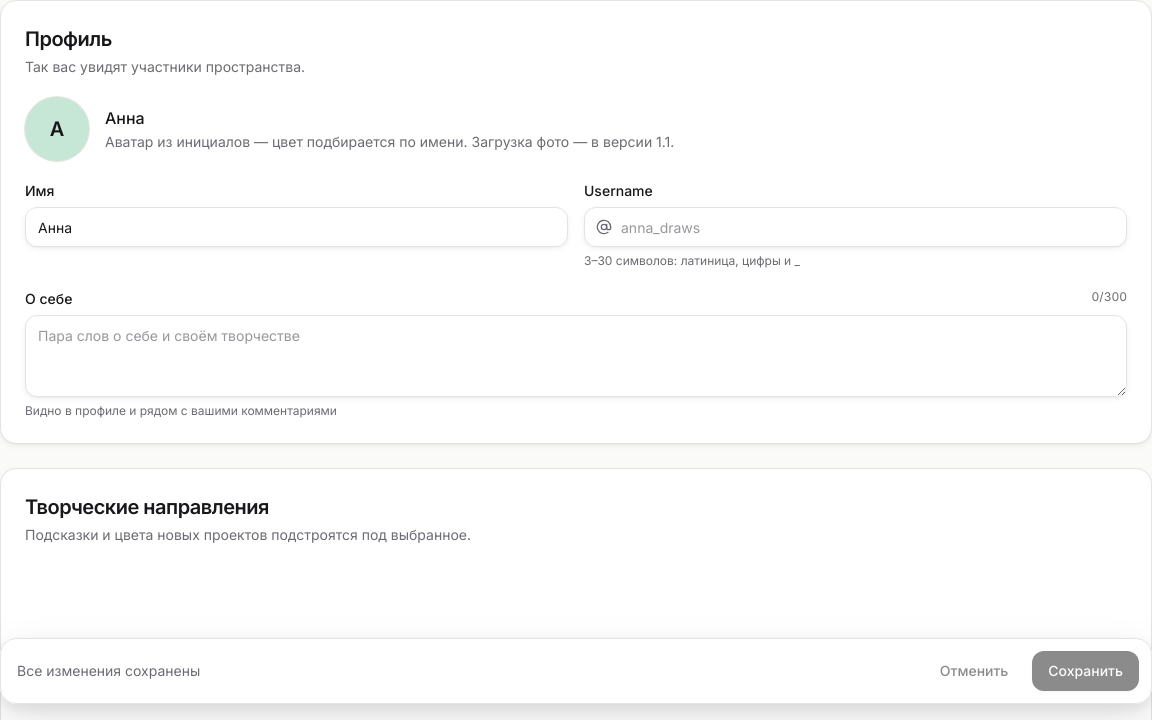
Test: Настройки → Профиль › занятый username — ошибка под полем
Type "taken_name" into the field labelled "Username" at (856, 227), box [584, 207, 1127, 247]
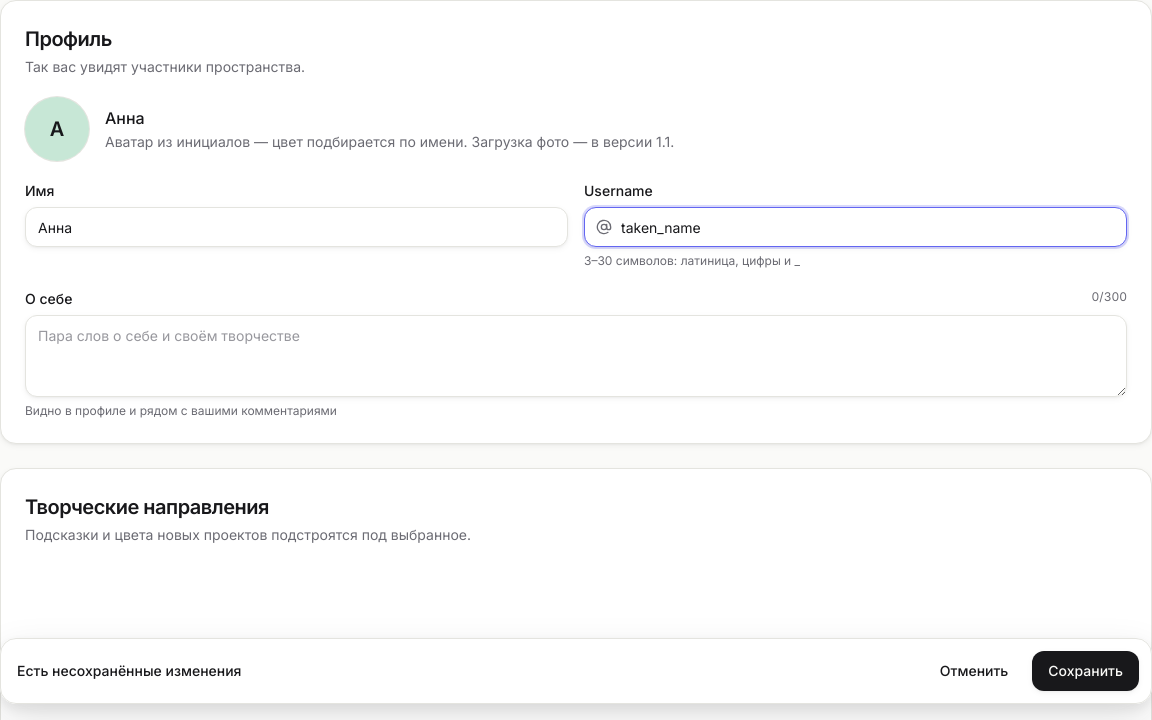
Click the button "Сохранить" at (1086, 671), box [1032, 651, 1139, 691]
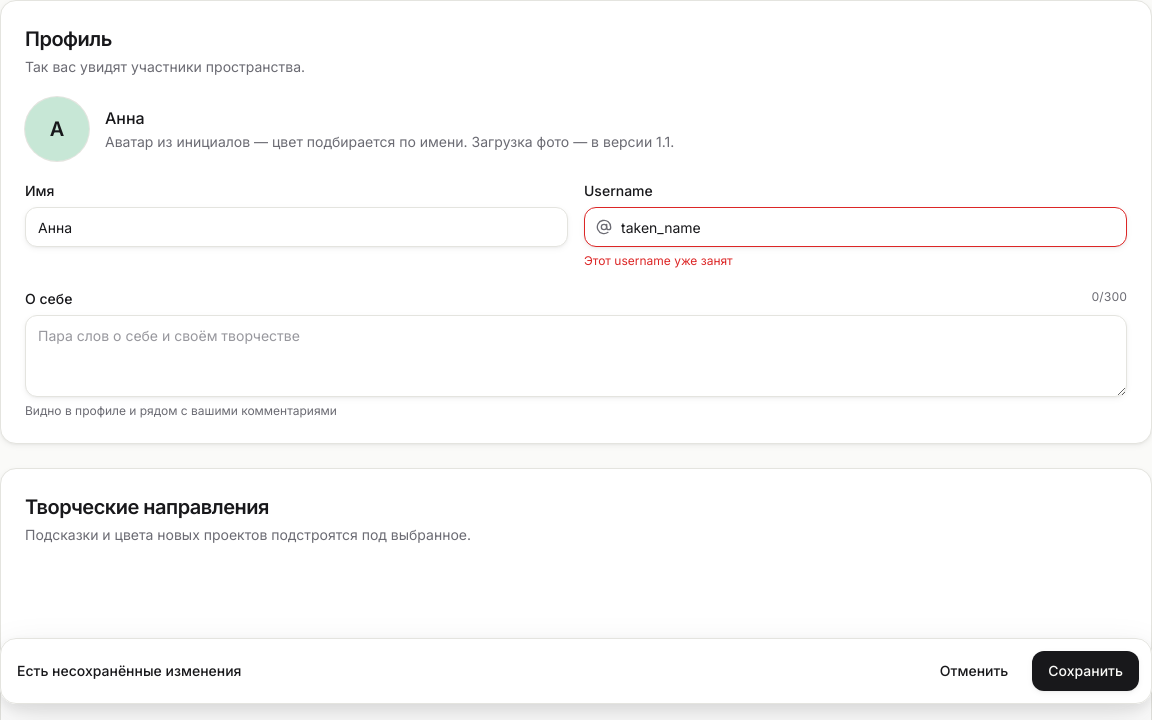
Check: the text "Этот username уже занят" is shown, box [584, 253, 733, 268]
